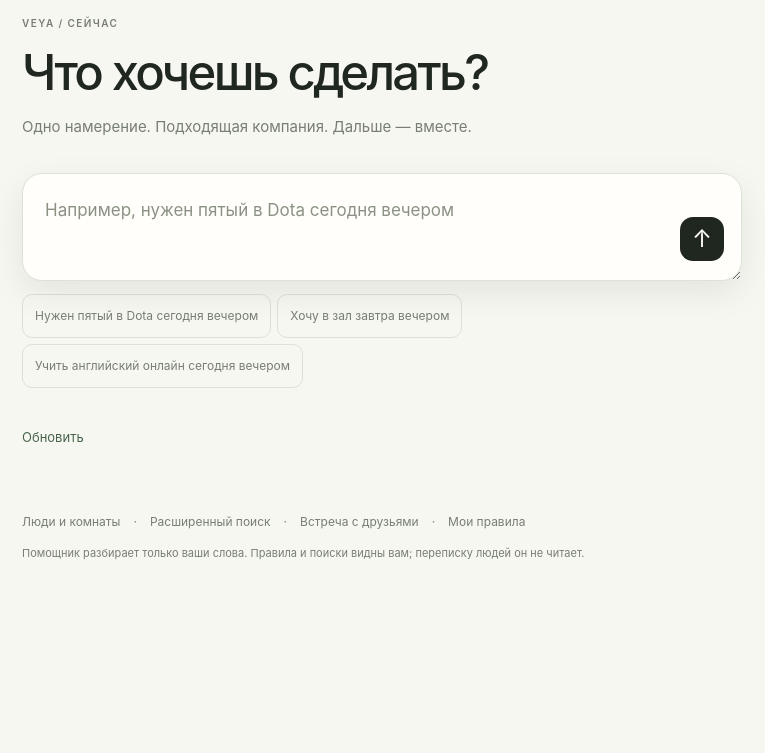
Test: minimal intent product › asks one critical question and sends the incomplete own draft on the answer
Type "В зал завтра" into the text box.
click(382, 227); type("В зал завтра")  # box [23,174,741,280]
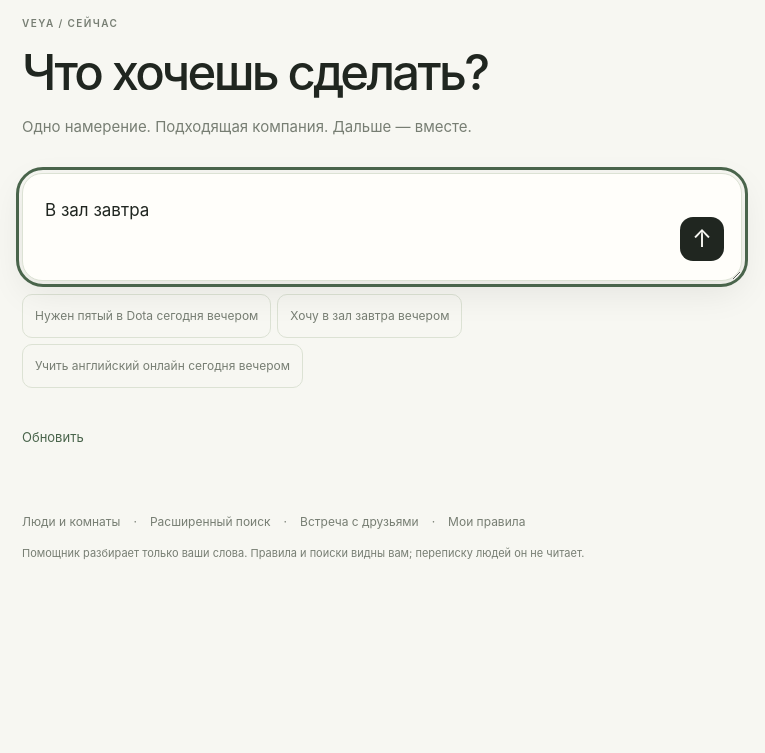
Click the button named "Разобрать намерение".
click(702, 239)  # box [680,217,724,261]
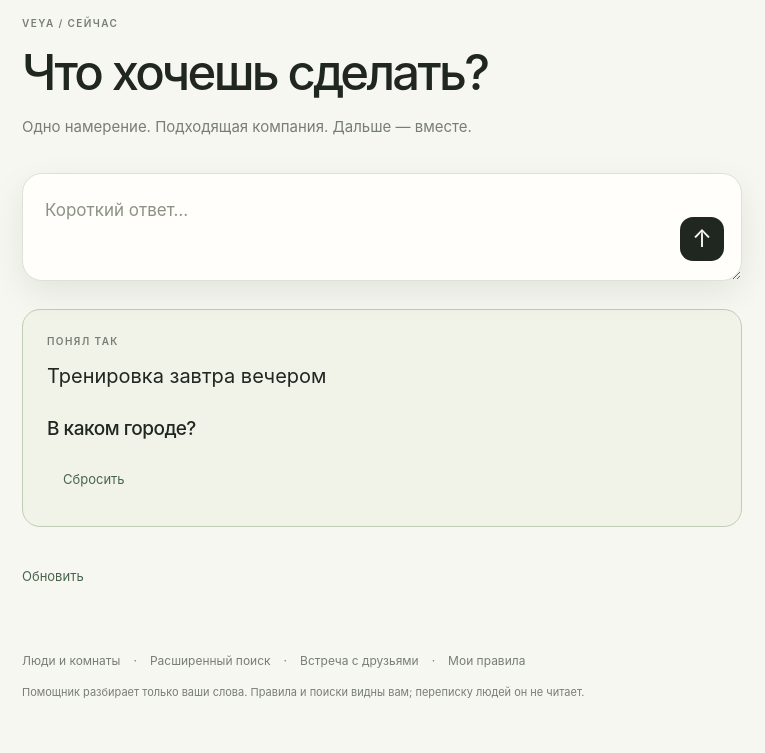
Expected: the button "Начать" is not shown
Now the heading "В каком городе?" is shown, box [47,417,196,440]
Type "Москва" into the text box.
click(382, 227); type("Москва")  # box [23,174,741,280]
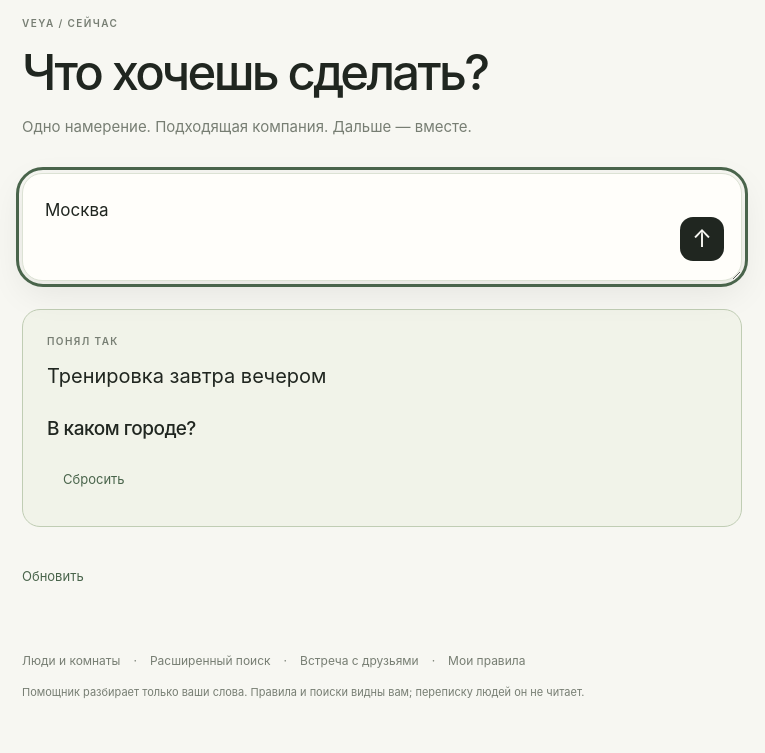
Click the button named "Ответить".
click(702, 239)  # box [680,217,724,261]
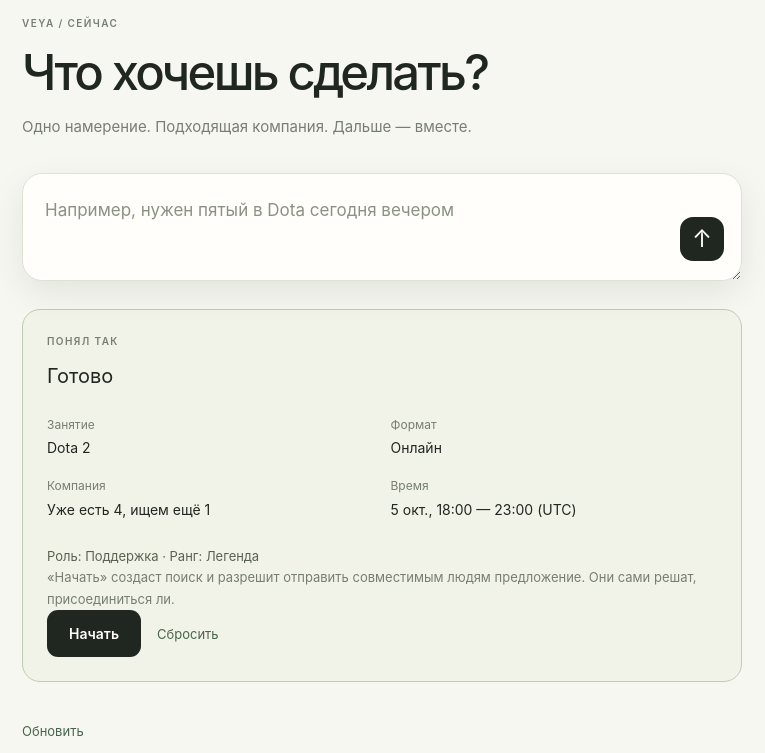
Now the button "Начать" is shown, box [47,610,141,657]
